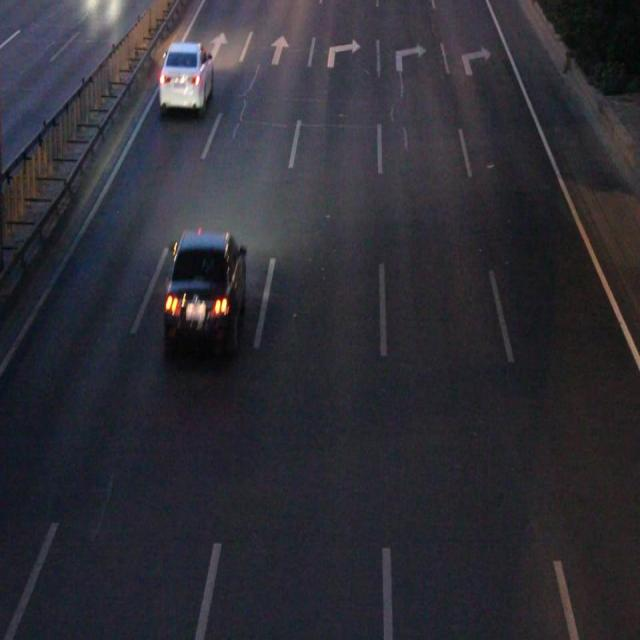car: (167, 232, 243, 346), (160, 43, 211, 106)
